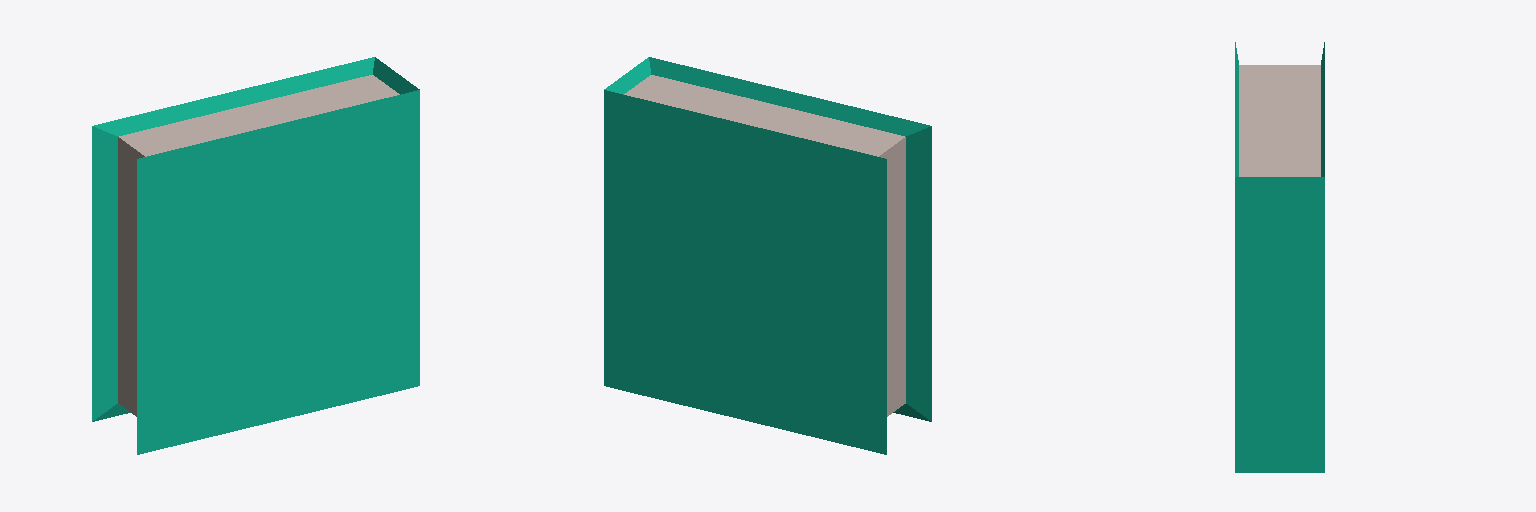
The model's file is Book_002.obj.
3 views of the same model, side by side, from view 1: azimuth 30°, elevation 25°; view 2: azimuth 150°, elevation 25°; view 3: azimuth 270°, elevation 25° (orthographic).
Visible parts, largest first — view 1: Book_2_Cube.005; view 2: Book_2_Cube.005; view 3: Book_2_Cube.005.
Part boxes in pixels (x1,y1,x2,y2): Book_2_Cube.005: (92, 57, 419, 454); Book_2_Cube.005: (604, 57, 931, 454); Book_2_Cube.005: (1235, 42, 1324, 472).
Bounding box in the file's own units: 2 × 2 × 0.5511.